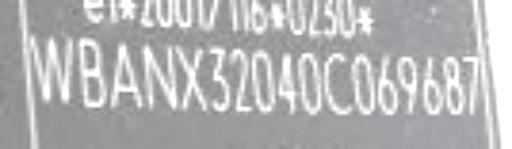letter: (22, 30, 76, 109), (137, 34, 179, 117), (171, 42, 213, 117), (72, 26, 106, 117), (111, 26, 141, 117), (290, 46, 324, 117), (248, 42, 278, 113), (321, 49, 351, 120), (206, 38, 232, 117), (347, 50, 377, 117), (374, 53, 400, 124), (443, 56, 469, 117), (229, 46, 251, 117), (397, 50, 419, 117), (420, 53, 442, 120), (278, 46, 298, 117), (466, 53, 480, 116)
